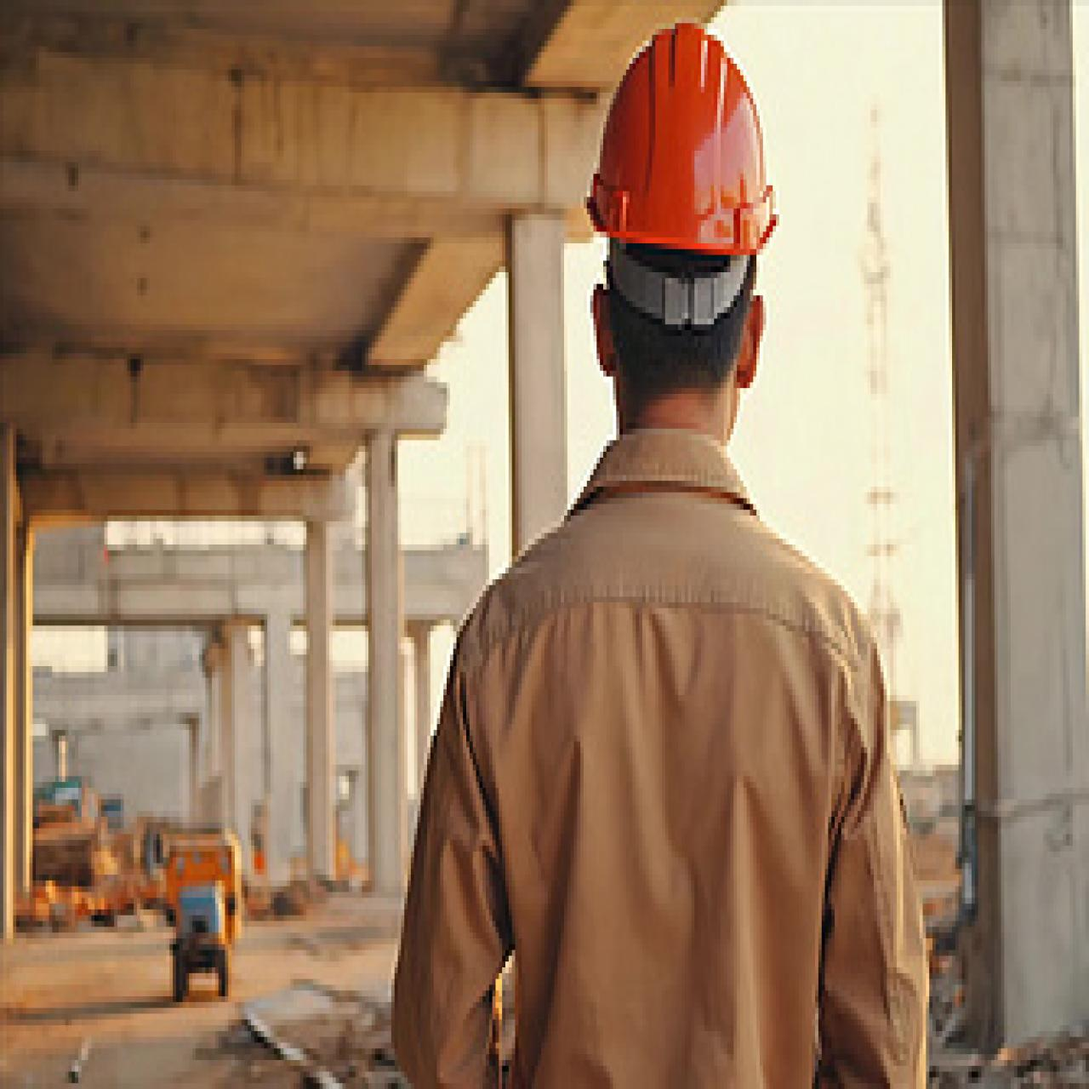NO_Safety_Vest: (507, 539, 825, 1073)
Person: (362, 16, 954, 1089)
